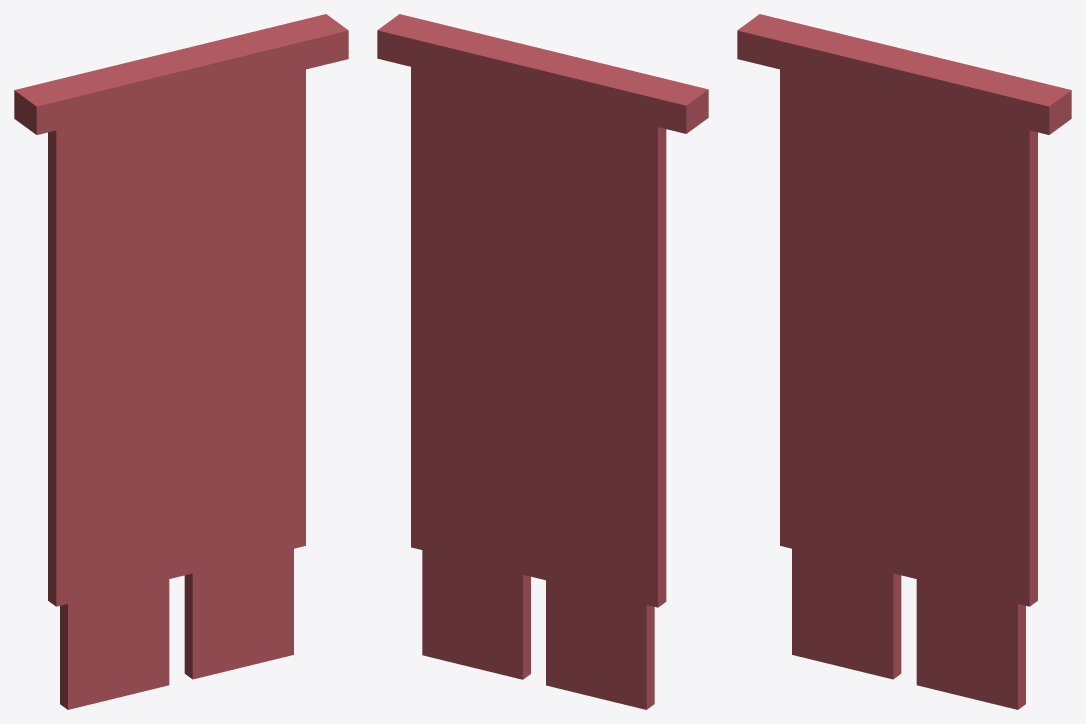
Rendered from banner.gltf.
The picture shows the model from 3 angles, left to right: view 1: azimuth 30°, elevation 25°; view 2: azimuth 150°, elevation 25°; view 3: azimuth 330°, elevation 25°; orthographic projection.
Bounding box in the file's own units: 0.32 × 0.61 × 0.04.
